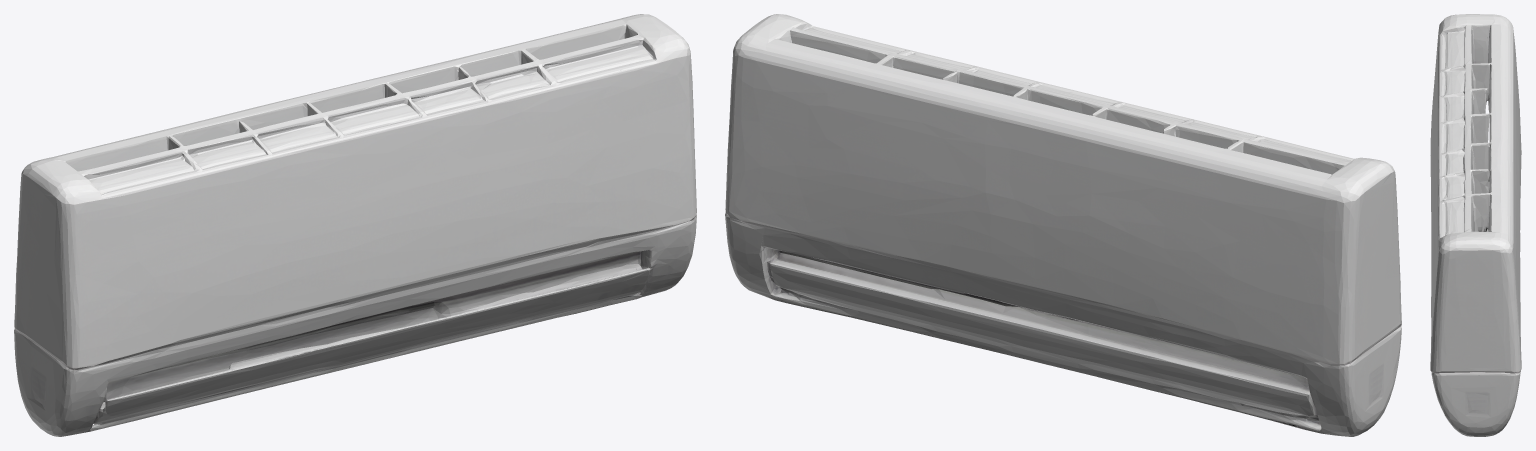
3 renders of one model, left to right at view 1: azimuth 30°, elevation 25°; view 2: azimuth 150°, elevation 25°; view 3: azimuth 270°, elevation 25°, orthographic. The views are drawn at different scales.
Visible parts, largest first — view 1: world; view 2: world; view 3: world.
Boxes of the visible parts, x1,y1,x2,y2 form: world: [14, 14, 696, 436]; world: [725, 14, 1401, 436]; world: [1430, 14, 1521, 436].
Bounding box in the file's own units: 0.9996 × 0.394 × 0.1652.
1 material, 1 textured.
